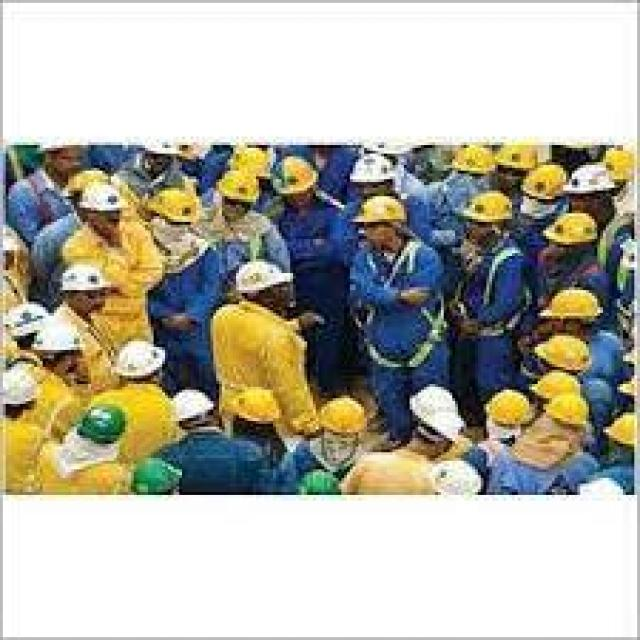Reflective-Jacket: (458, 239, 538, 344)
Safety-Helmet: (535, 284, 606, 330), (145, 174, 202, 228), (455, 185, 518, 233), (233, 256, 296, 299), (560, 159, 623, 202), (350, 191, 412, 233), (532, 333, 592, 375), (515, 159, 569, 205), (114, 336, 168, 381), (347, 148, 404, 190), (541, 210, 600, 250), (270, 154, 322, 199), (228, 384, 282, 427), (74, 176, 131, 216), (213, 165, 264, 208), (32, 313, 82, 355), (57, 259, 108, 296)
